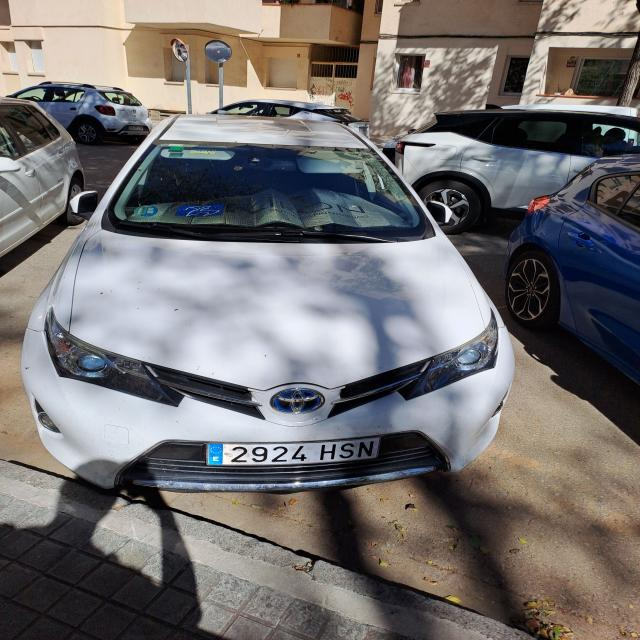license_plate-34Td: (206, 437, 380, 466)
